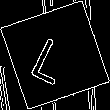L_NE: (30, 25, 80, 85)
